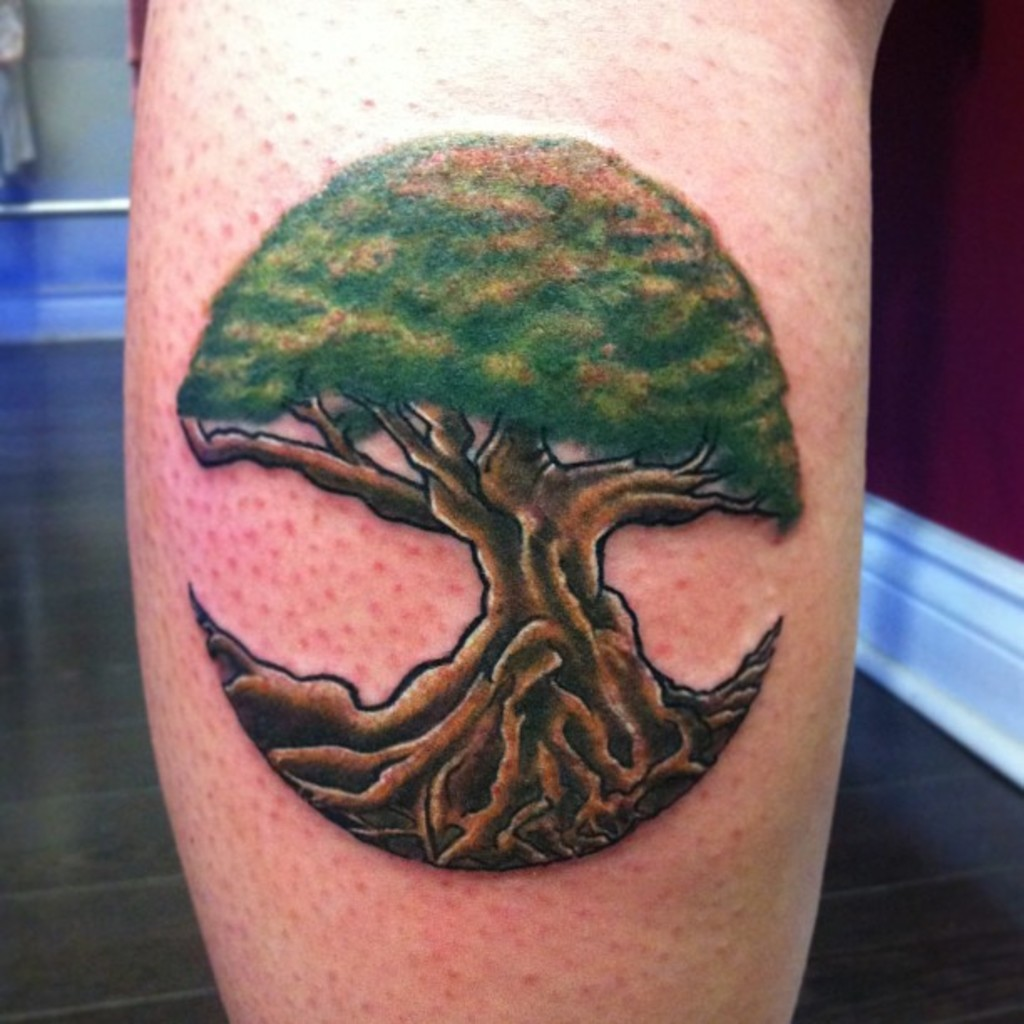Tree: (174, 133, 803, 870)
